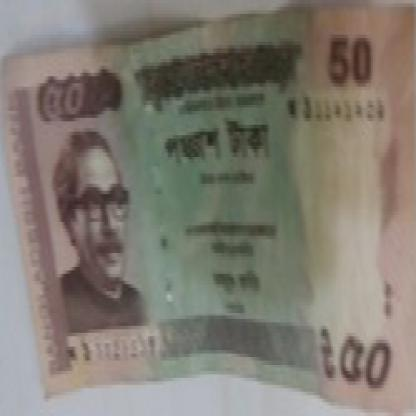Fifty taka: (333, 322, 396, 399), (33, 76, 88, 139)
